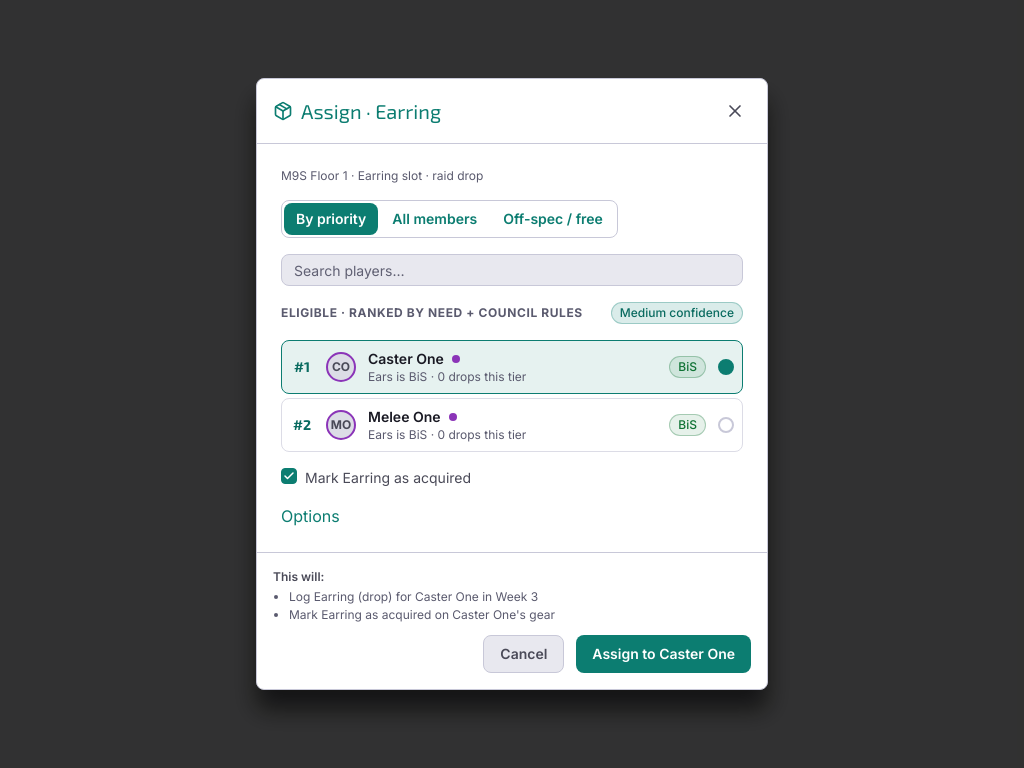
Scenario: RecipientPicker — R-12 "This will:" live preview › names the recipient, week and gear side effect, and tracks toggles live
This screenshot has width=1024, height=768.
Check: the text "This will:" is shown, box [273,569,324,584]
Check: the list item "Log Earring (drop) for Caster One in Week 3" is shown, box [289,589,538,604]
Click the 2nd checkbox at (289,476), box [281,468,297,484]
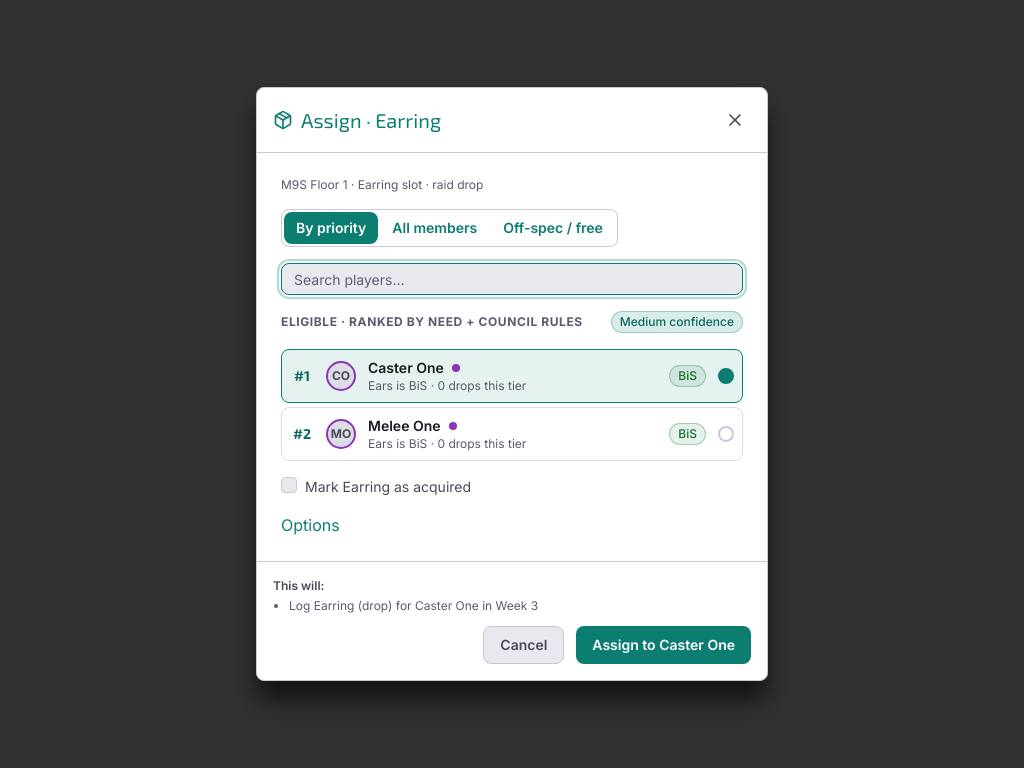
Check: the list item "Mark Earring as acquired on" is gone
